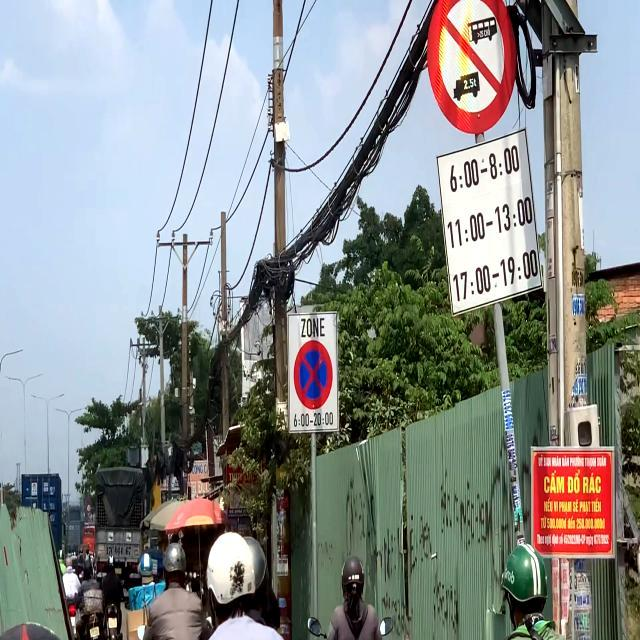Cam dung xe va do xe: (292, 338, 334, 411)
